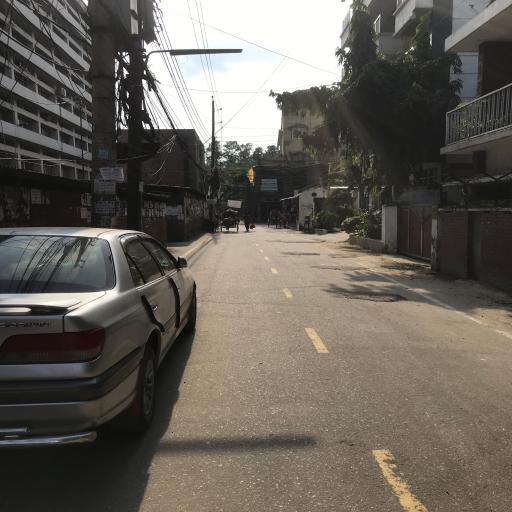car: (1, 225, 201, 455)
rickshaw: (221, 211, 240, 234), (268, 210, 283, 229)
